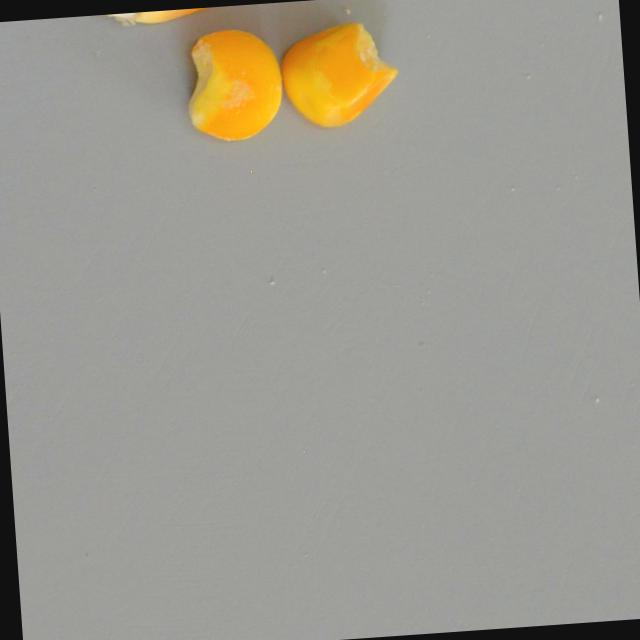entero: (93, 5, 244, 34)
pelicula: (276, 16, 402, 131), (180, 23, 286, 146)
